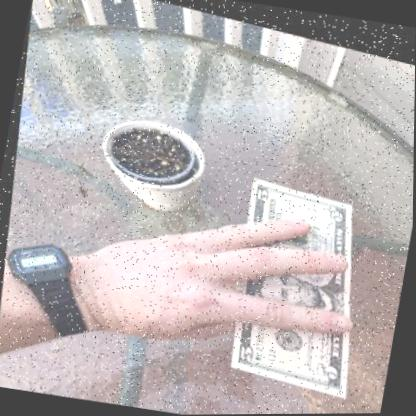five-front: (227, 173, 352, 391)
